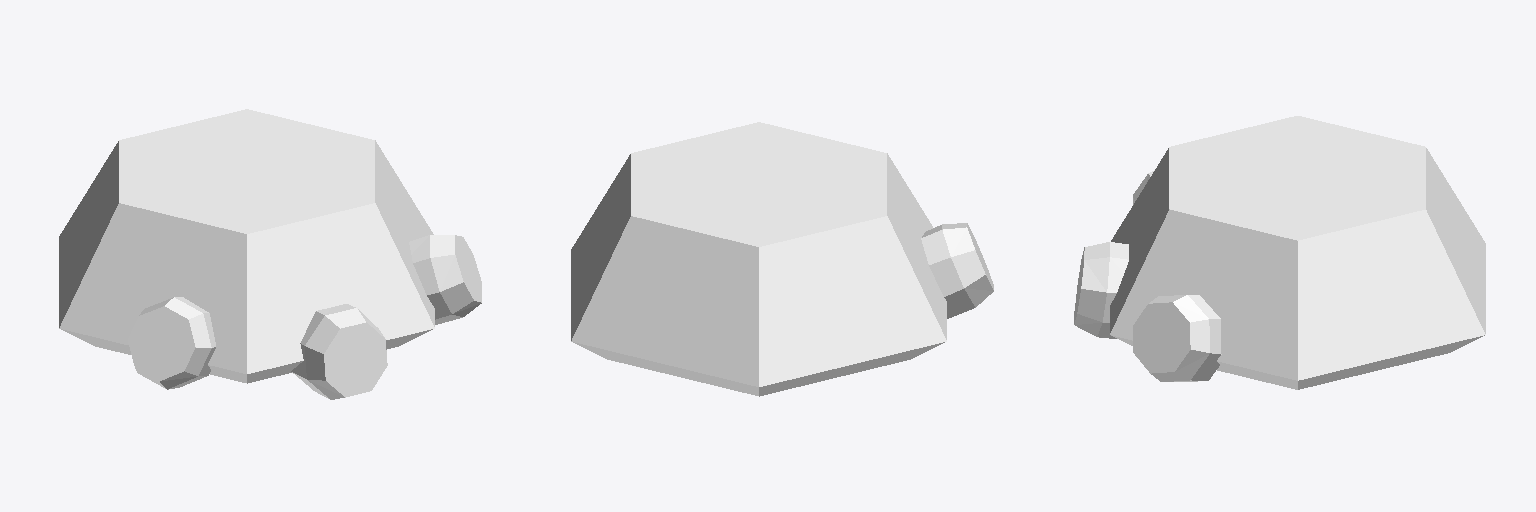
The model's file is cbs_module_platform_lvl3.obj.
3 views of the same model, side by side, from view 1: azimuth 30°, elevation 25°; view 2: azimuth 150°, elevation 25°; view 3: azimuth 270°, elevation 25° (orthographic).
Parts seen in each view (by area): view 1: main; view 2: main; view 3: main.
Boxes of the visible parts, x1=… form: main: x1=59, y1=109, x2=481, y2=399; main: x1=571, y1=122, x2=993, y2=396; main: x1=1074, y1=116, x2=1485, y2=389.
Bounding box in the file's own units: 149 × 59.08 × 141.